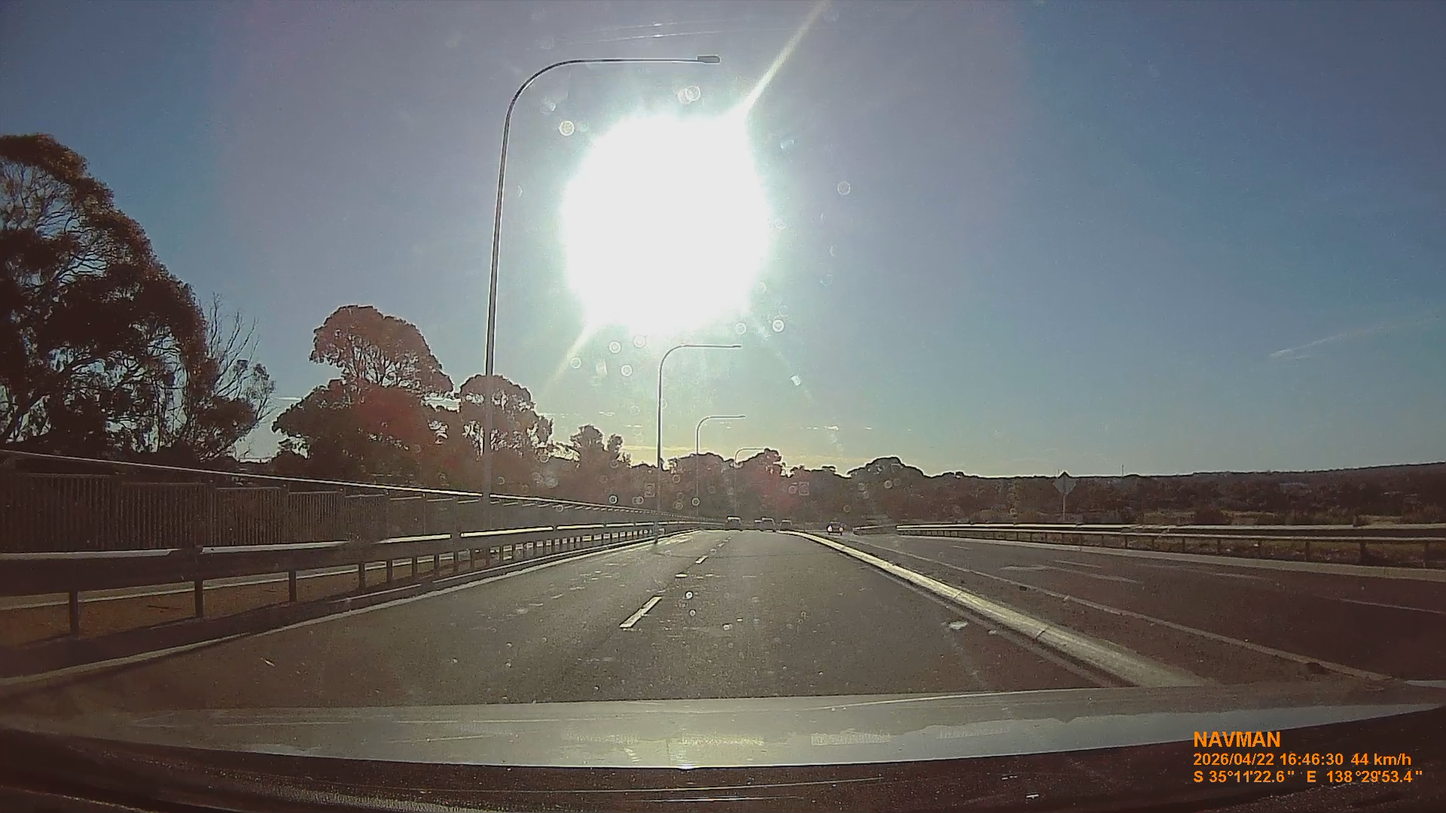fences: (4, 455, 613, 553)
road barriers: (3, 525, 690, 641), (871, 521, 1445, 565)
